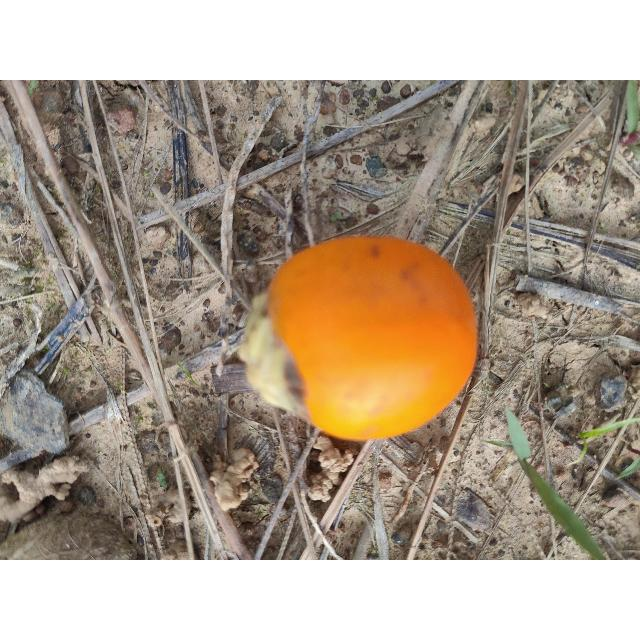good: (238, 236, 477, 440)
